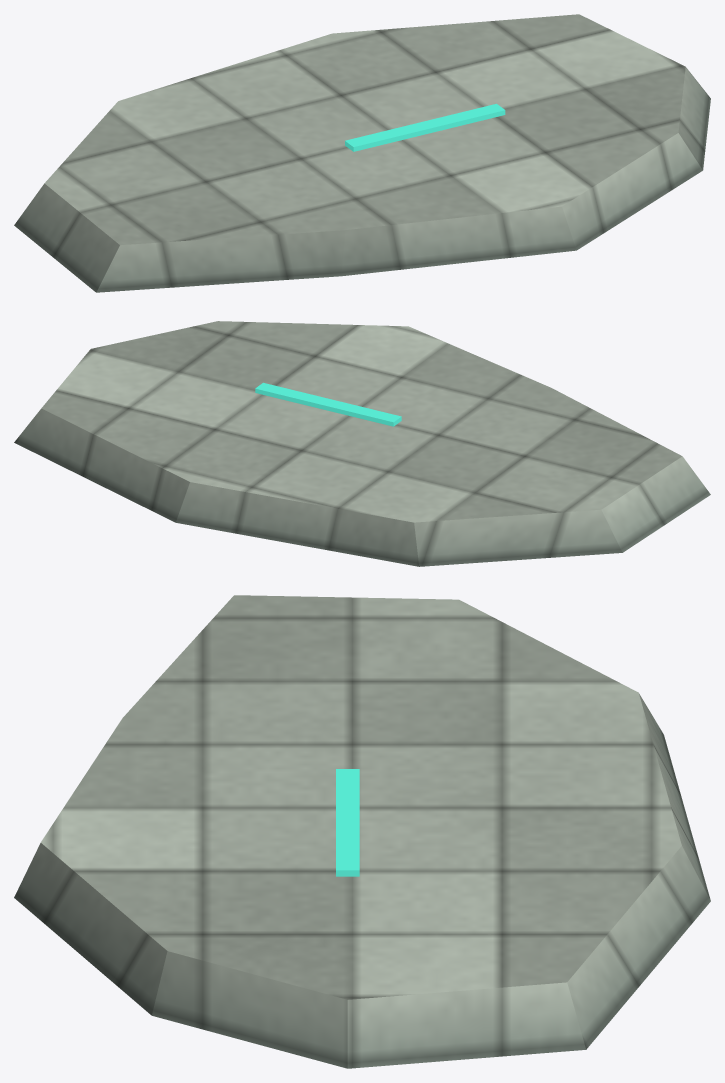
Rendered from pale_stone_b.glb.
3 renders of one model, top to bottom at view 1: azimuth 30°, elevation 25°; view 2: azimuth 150°, elevation 25°; view 3: azimuth 270°, elevation 25°, orthographic. The views are drawn at different scales.
Visible parts, largest first — view 1: pale_stone_b; view 2: pale_stone_b; view 3: pale_stone_b.
Part boxes in pixels (<box>): pale_stone_b: <box>14,14,710,292</box>; pale_stone_b: <box>14,321,710,566</box>; pale_stone_b: <box>14,595,710,1068</box>.
Size of the model in its own units: 2.17 by 0.135 by 1.46.
2 materials, 2 textured.
